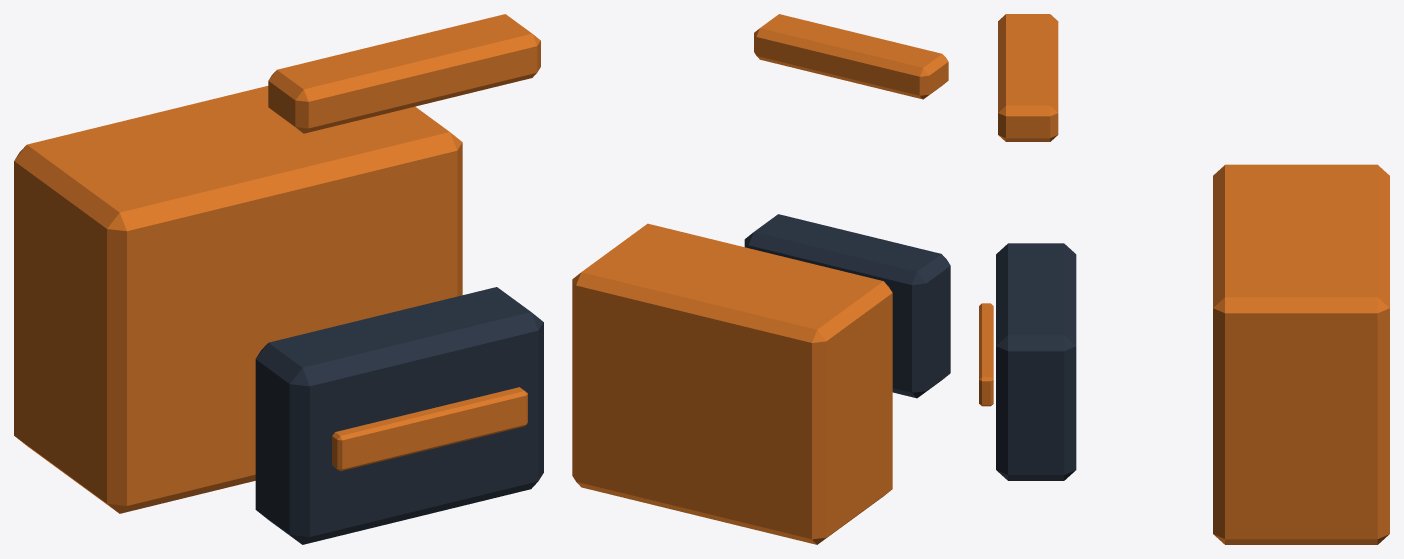
The model's file is delivery_bot.glb.
3 views of the same model, side by side, from view 1: azimuth 30°, elevation 25°; view 2: azimuth 150°, elevation 25°; view 3: azimuth 270°, elevation 25° (orthographic). The views are drawn at different scales.
Visible parts, largest first — view 1: delivery_bot_torso, delivery_bot_head; view 2: delivery_bot_torso, delivery_bot_head; view 3: delivery_bot_torso, delivery_bot_head.
Boxes of the visible parts, x1,y1,x2,y2 form: delivery_bot_torso: (14, 86, 543, 544); delivery_bot_head: (268, 14, 540, 133); delivery_bot_torso: (572, 214, 950, 544); delivery_bot_head: (754, 14, 948, 99); delivery_bot_torso: (979, 164, 1389, 544); delivery_bot_head: (998, 14, 1058, 141).
Size of the model in its own units: 0.42 by 0.575 by 0.511.
